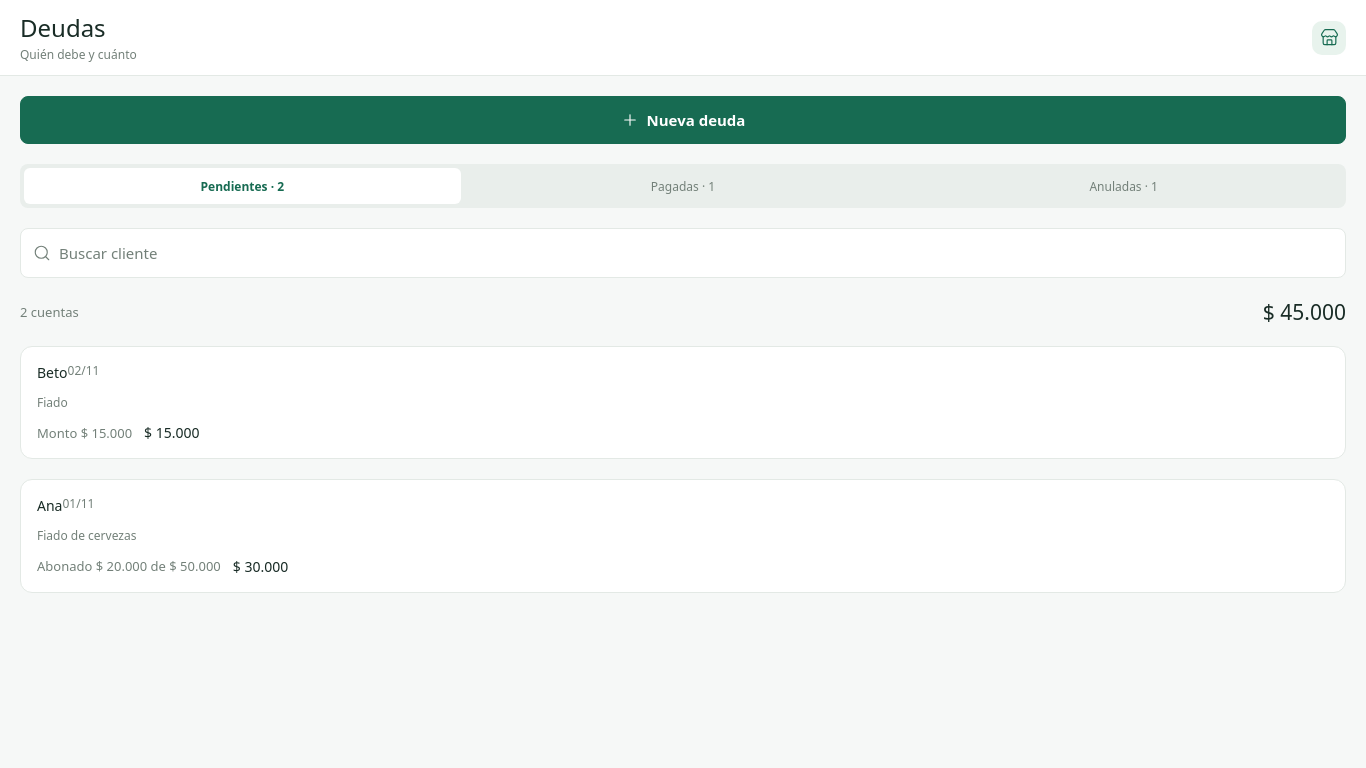
Scenario: Deudas › busca por cliente
This screenshot has width=1366, height=768.
Expected: the text "Beto" is shown, [37, 363, 68, 383]
Type "an" into the search field at x=696, y=253, box [59, 242, 1333, 264]
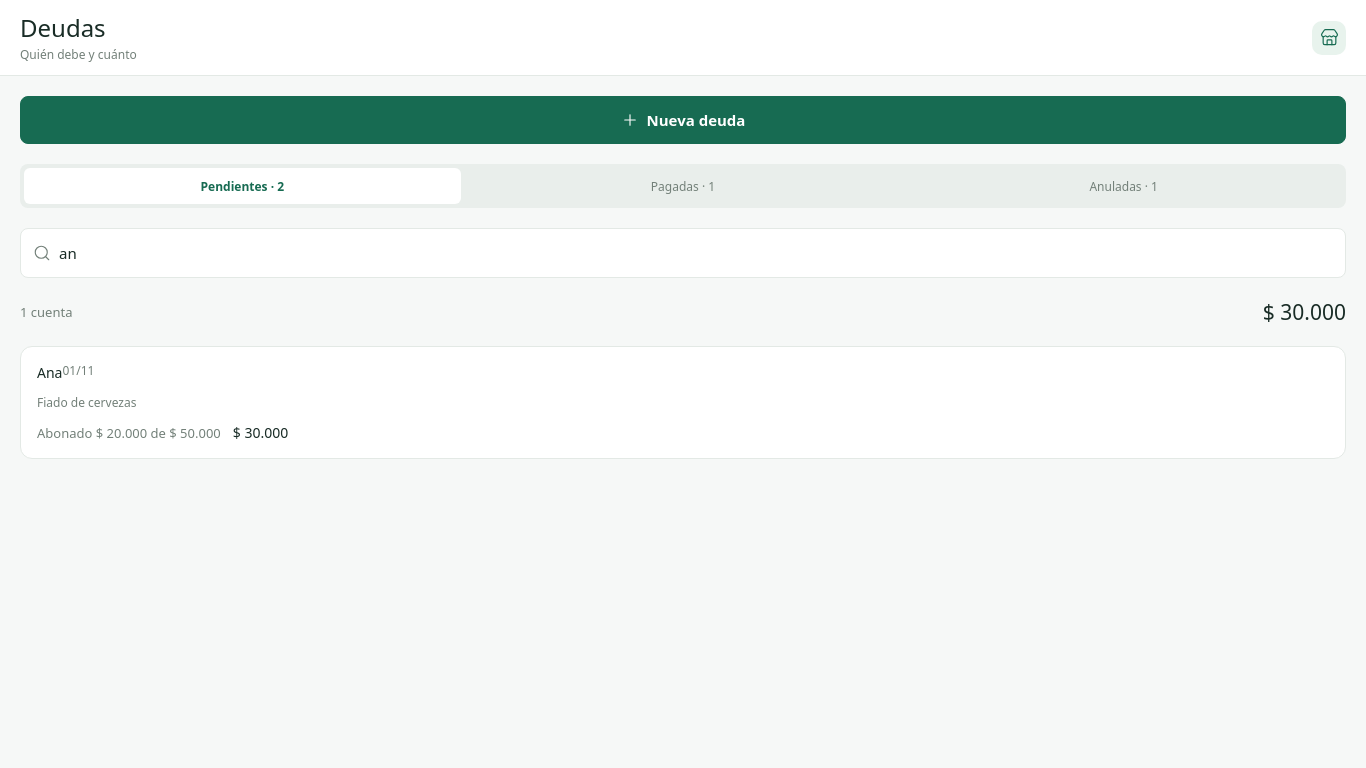
Expected: the text "Ana" is shown, [37, 363, 62, 383]
Result: the button "Beto" is gone
